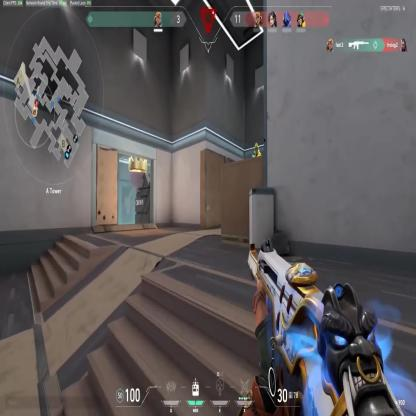enemy: (251, 140, 262, 198)
enemy_head: (254, 142, 260, 153)
